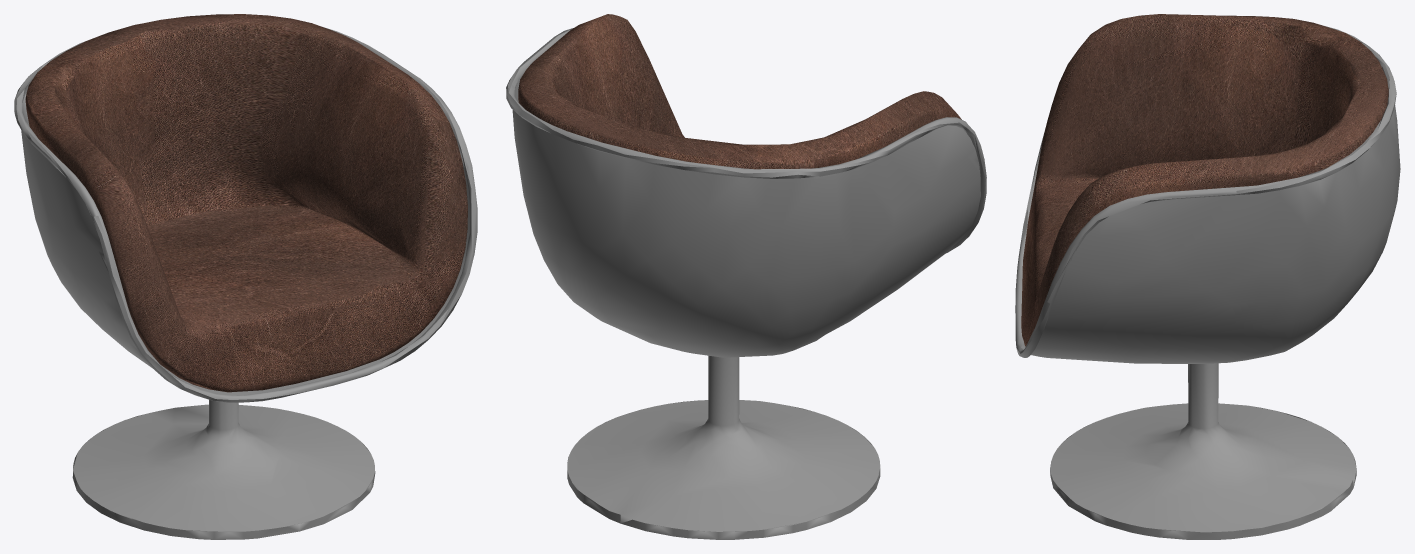
File: chair 2.FBX
3 renders of one model, left to right at view 1: azimuth 30°, elevation 25°; view 2: azimuth 150°, elevation 25°; view 3: azimuth 270°, elevation 25°, orthographic. The views are drawn at different scales.
Parts seen in each view (by area): view 1: chair2; view 2: chair2; view 3: chair2.
Part boxes in pixels (bbox=[...]): chair2: bbox=[14, 14, 477, 539]; chair2: bbox=[506, 14, 986, 539]; chair2: bbox=[1015, 14, 1400, 539].
Bounding box in the file's own units: 55.93 × 56.49 × 50.14.
2 materials, 1 textured.
